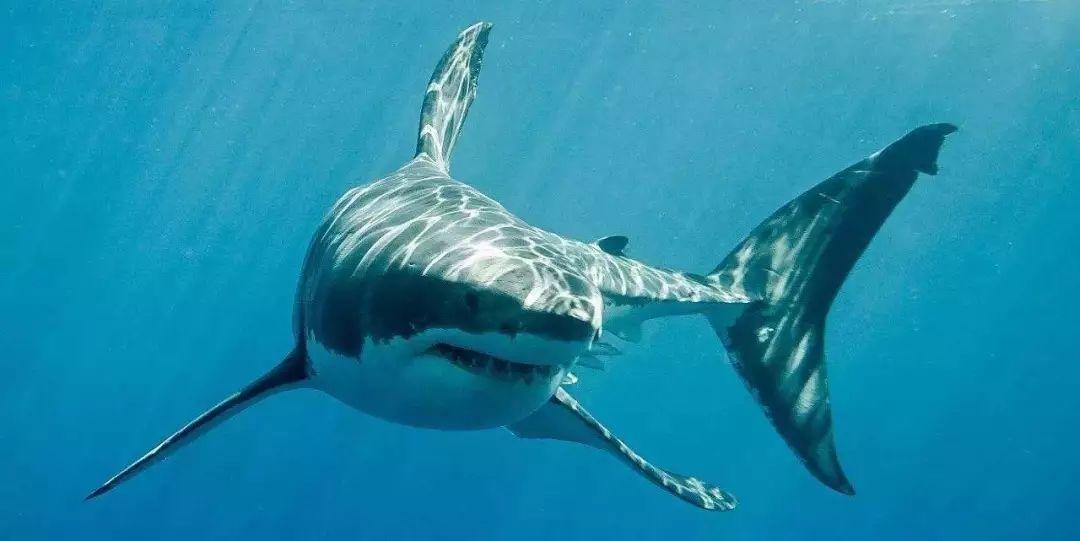fish: (72, 23, 962, 518)
